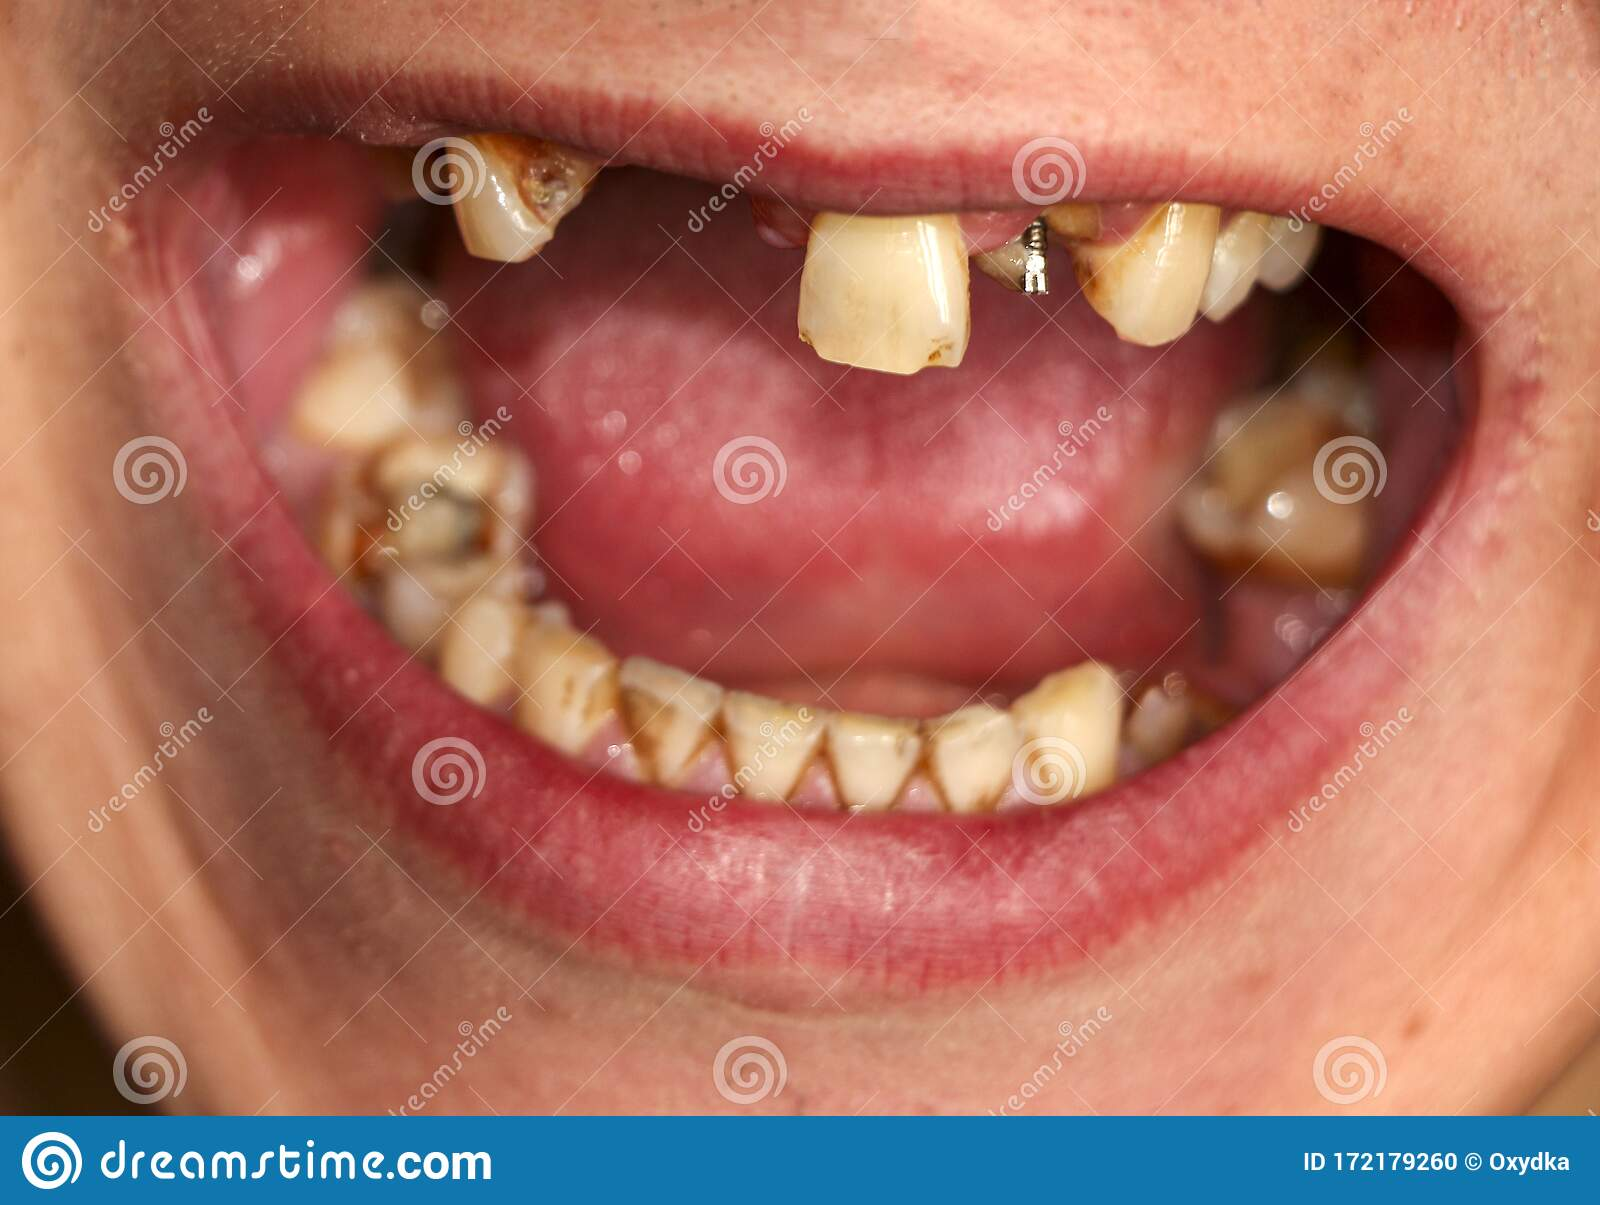decay: (810, 218, 937, 404), (984, 204, 1124, 342), (332, 475, 497, 589), (1082, 204, 1213, 340), (442, 135, 599, 247), (511, 613, 616, 746), (722, 671, 822, 806), (819, 708, 928, 820), (622, 651, 704, 780), (930, 709, 1022, 813)
rough: (592, 165, 782, 306), (1144, 546, 1284, 708), (1035, 667, 1122, 813)
